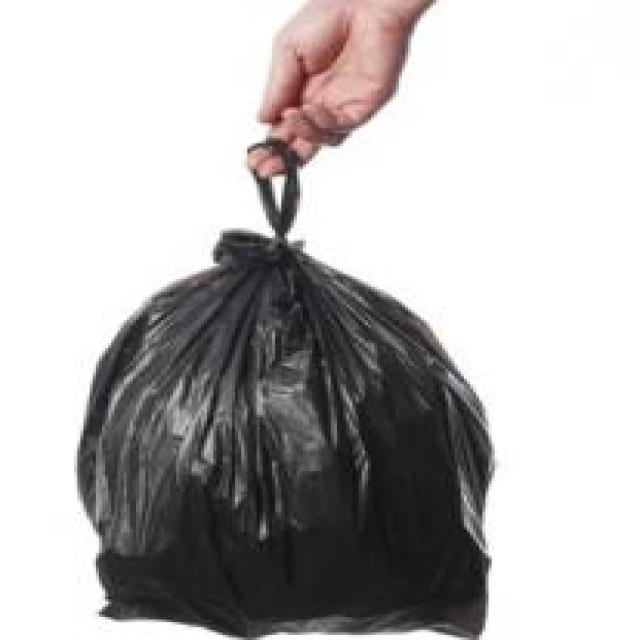sampah-detection: (77, 141, 498, 640)
